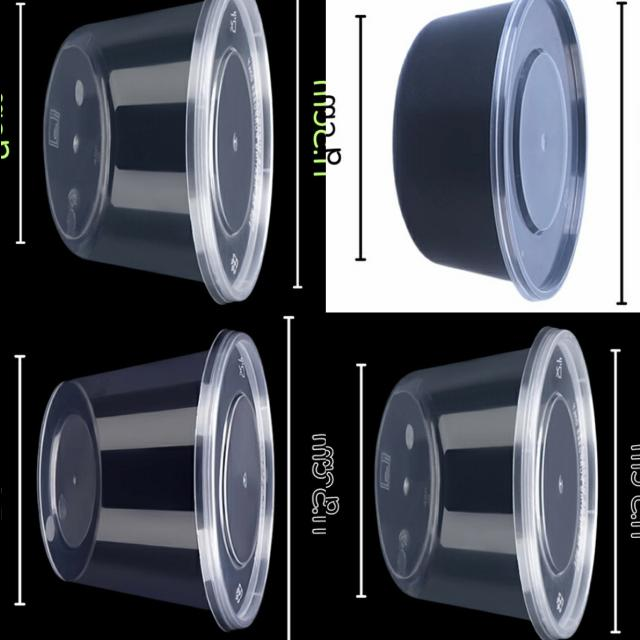plastik: (37, 330, 274, 631), (373, 327, 596, 640), (42, 0, 272, 303), (392, 0, 585, 300)
